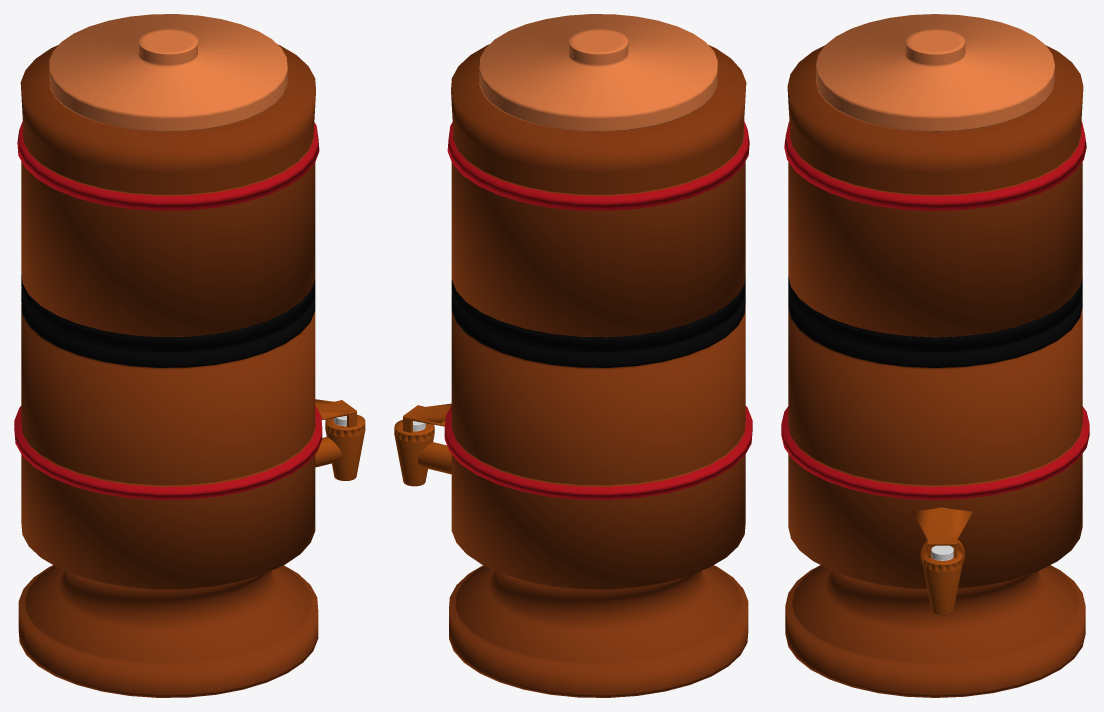
Rendered from Filtro.fbx.
The picture shows the model from 3 angles, left to right: view 1: azimuth 30°, elevation 25°; view 2: azimuth 150°, elevation 25°; view 3: azimuth 270°, elevation 25°; orthographic projection.
Parts seen in each view (by area): view 1: Cylinder; view 2: Cylinder; view 3: Cylinder.
Boxes of the visible parts, left/top/right/bottom form: Cylinder: left=14, top=14, right=365, bottom=697; Cylinder: left=394, top=14, right=752, bottom=697; Cylinder: left=781, top=14, right=1089, bottom=697.
Size of the model in its own units: 734 by 1255 by 592.
